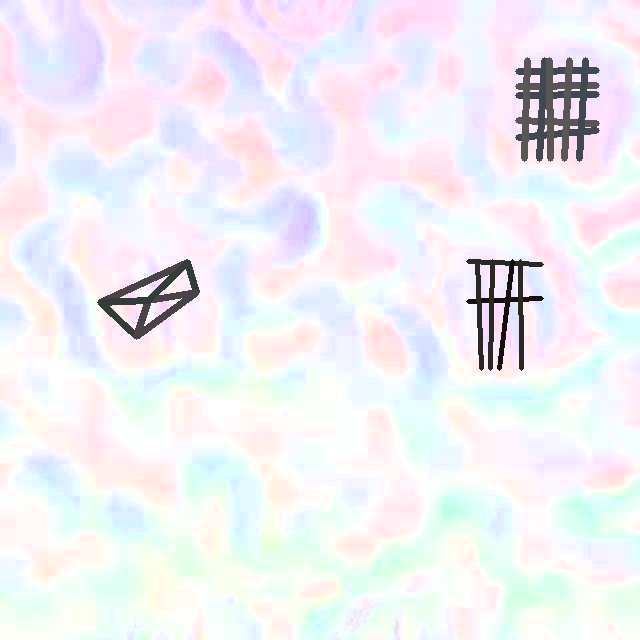open: (516, 57, 599, 161), (466, 259, 543, 370), (97, 260, 198, 339)
